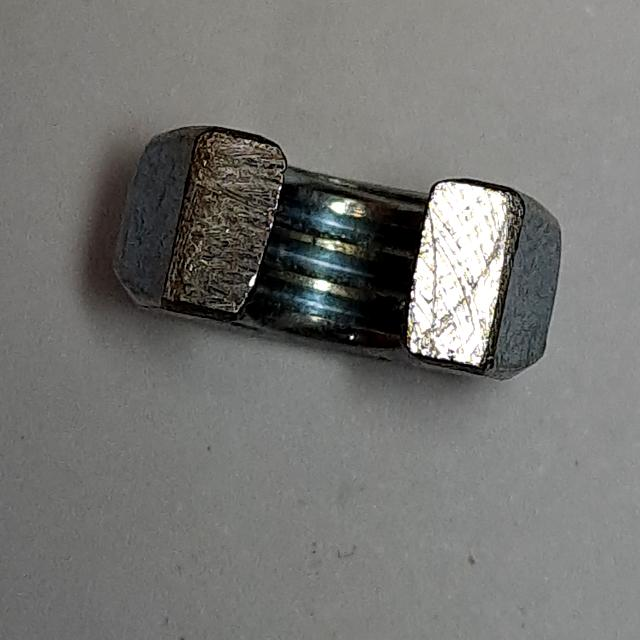Side-Fracture: (103, 116, 577, 399)
